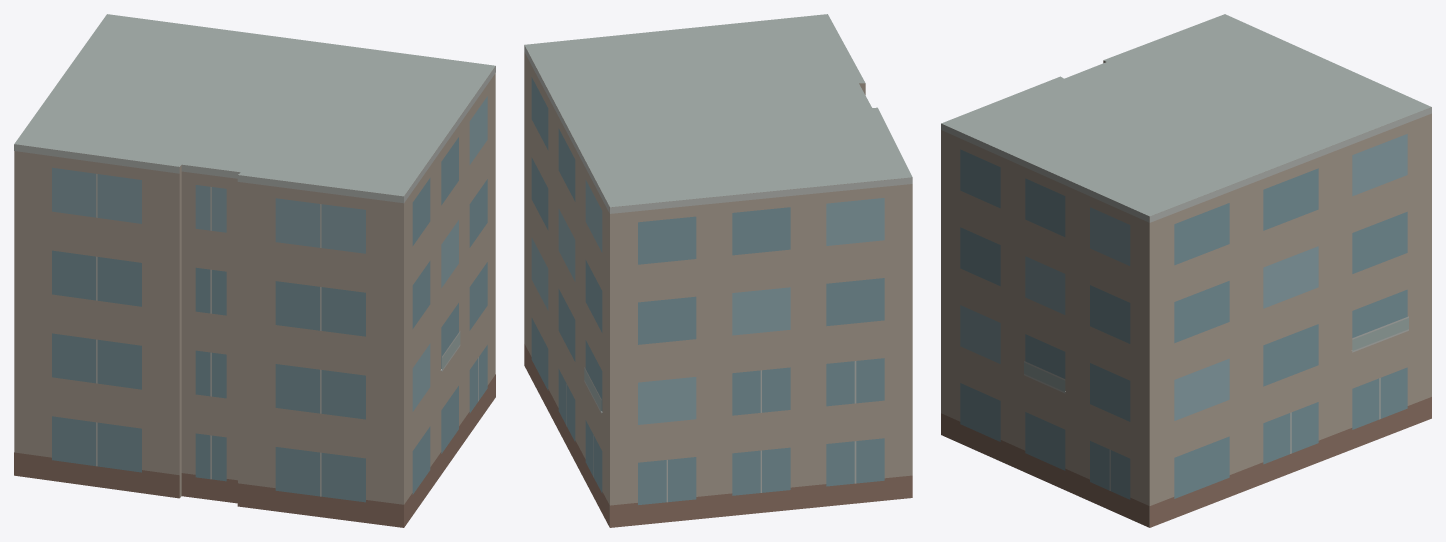
File: survey-upis-32597809.glb
The picture shows the model from 3 angles, left to right: view 1: azimuth 30°, elevation 25°; view 2: azimuth 150°, elevation 25°; view 3: azimuth 270°, elevation 25°; orthographic projection. The views are drawn at different scales.
Parts seen in each view (by area): view 1: survey-upis-32597809.tmp; view 2: survey-upis-32597809.tmp; view 3: survey-upis-32597809.tmp.
Part boxes in pixels (bbox=[...]): survey-upis-32597809.tmp: bbox=[14, 14, 495, 527]; survey-upis-32597809.tmp: bbox=[524, 14, 912, 527]; survey-upis-32597809.tmp: bbox=[941, 14, 1431, 527].
Size of the model in its own units: 16.45 by 11.79 by 16.84.
